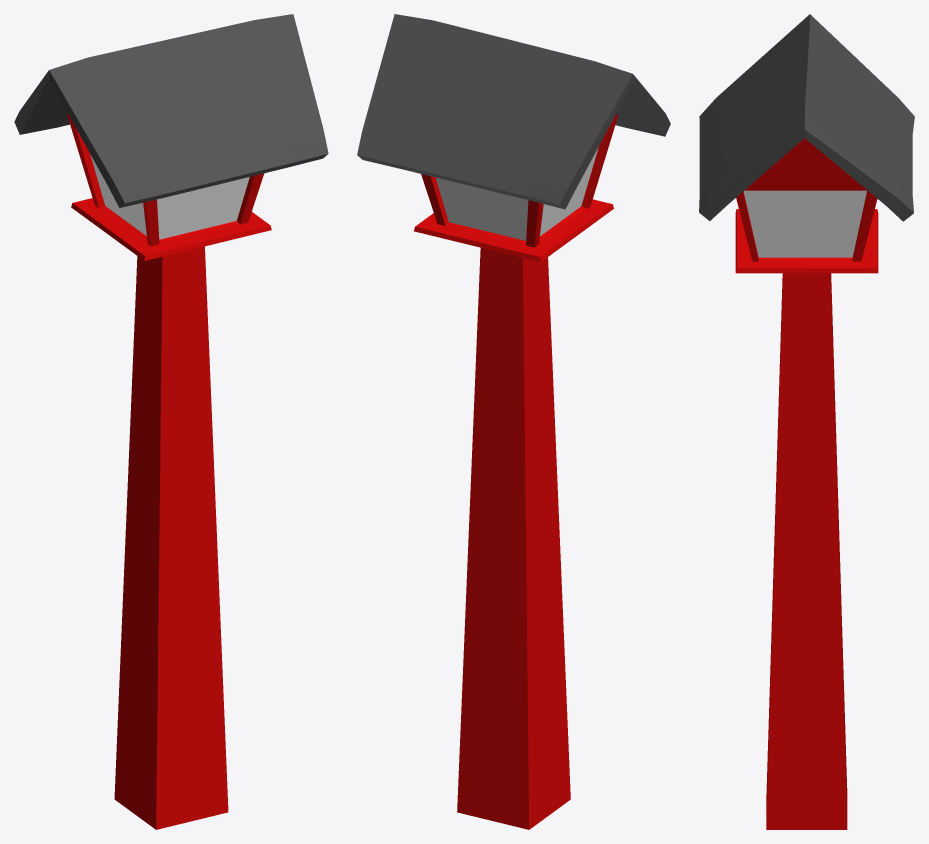
File: toro lantern.fbx
3 views of the same model, side by side, from view 1: azimuth 30°, elevation 25°; view 2: azimuth 150°, elevation 25°; view 3: azimuth 270°, elevation 25° (orthographic). The views are drawn at different scales.
Visible parts, largest first — view 1: pCube1; view 2: pCube1; view 3: pCube1.
Part boxes in pixels (x1,y1,x2,y2): pCube1: (14, 14, 328, 829); pCube1: (357, 14, 670, 829); pCube1: (699, 14, 914, 829).
Bounding box in the file's own units: 9.38 × 28.46 × 7.48.
